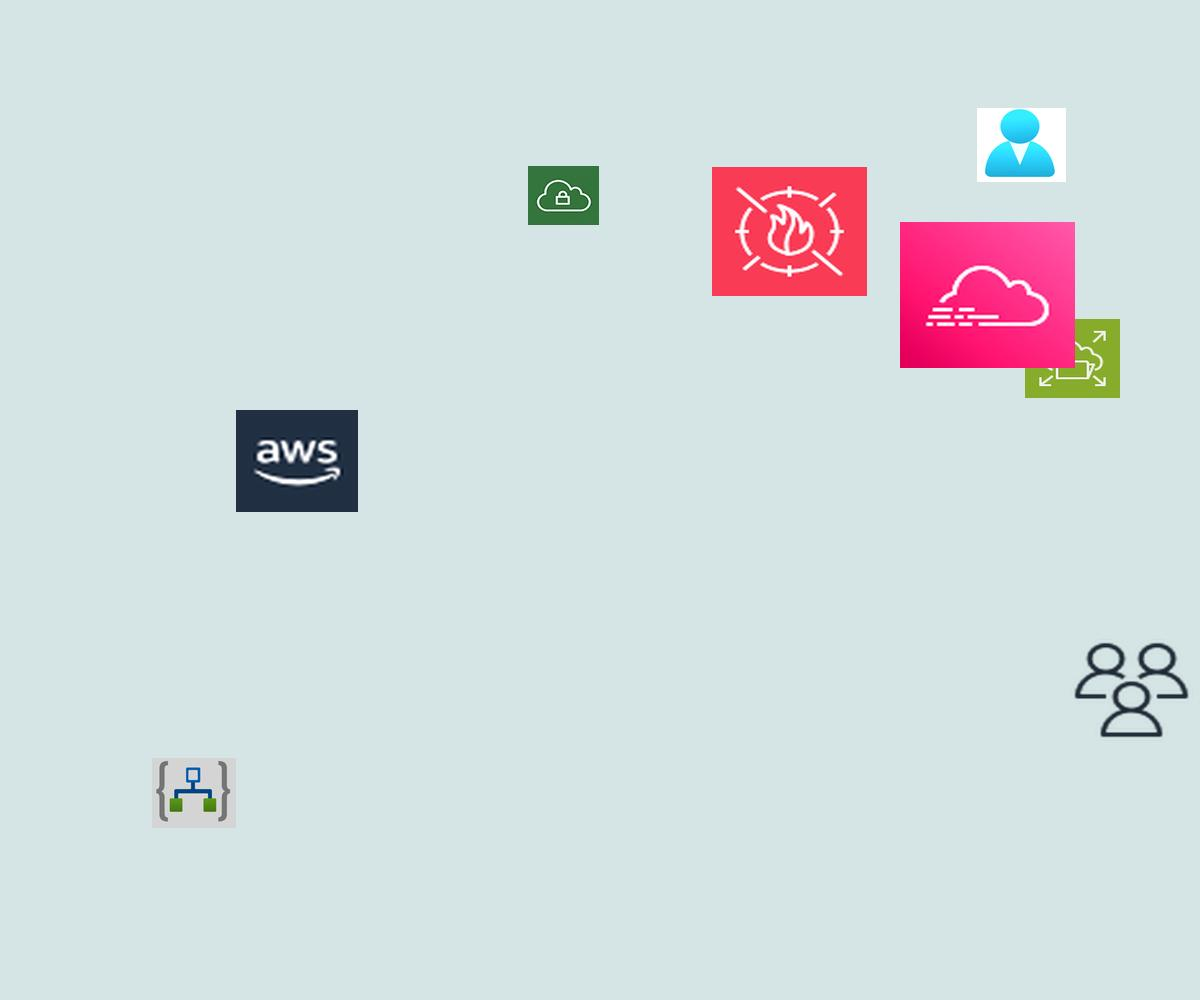AWS-Cloud-logo: (236, 410, 358, 512)
AWS-CloudTrail: (900, 222, 1075, 368)
AWS-EFS: (1025, 319, 1120, 398)
AWS-Private_vpc: (528, 166, 599, 225)
AWS-Res_Users: (1070, 639, 1193, 741)
AWS-WAF: (712, 167, 867, 296)
Azure_integration-204-Logic-Apps: (152, 758, 236, 828)
Azure_users: (977, 108, 1066, 182)
